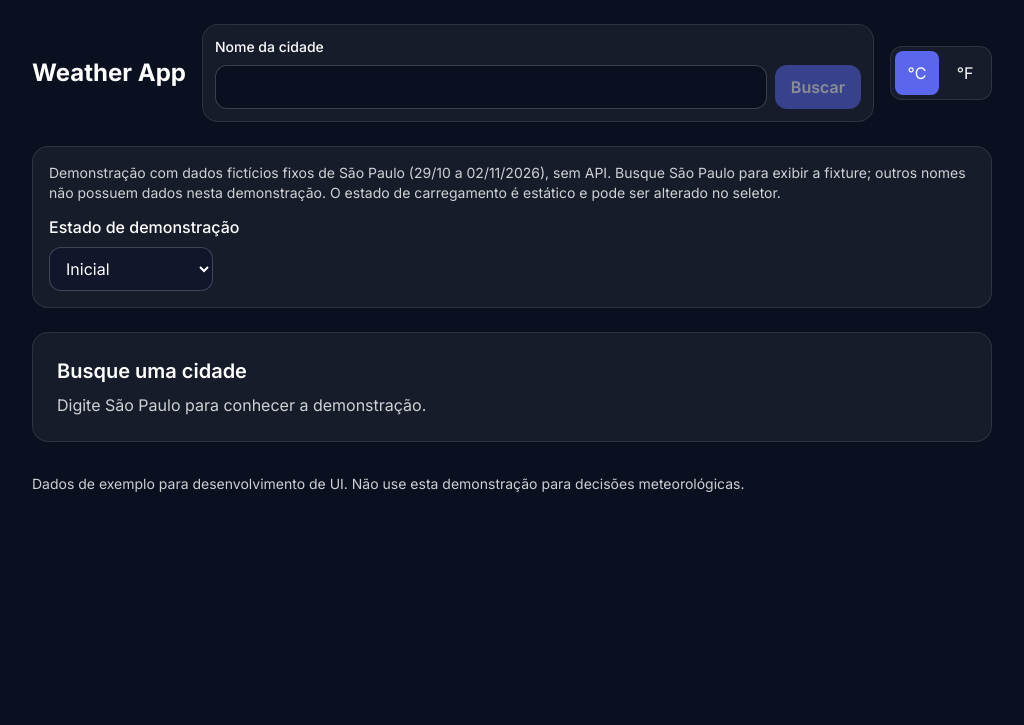
it: integra fixture, unidade derivada, vazio e nova busca sem rede
Expected: the heading "Busque uma cidade" is shown, [57,359,247,383]
Type "  sao paulo  " into the search field at (491, 87), box [215,65,767,109]
Then press Enter
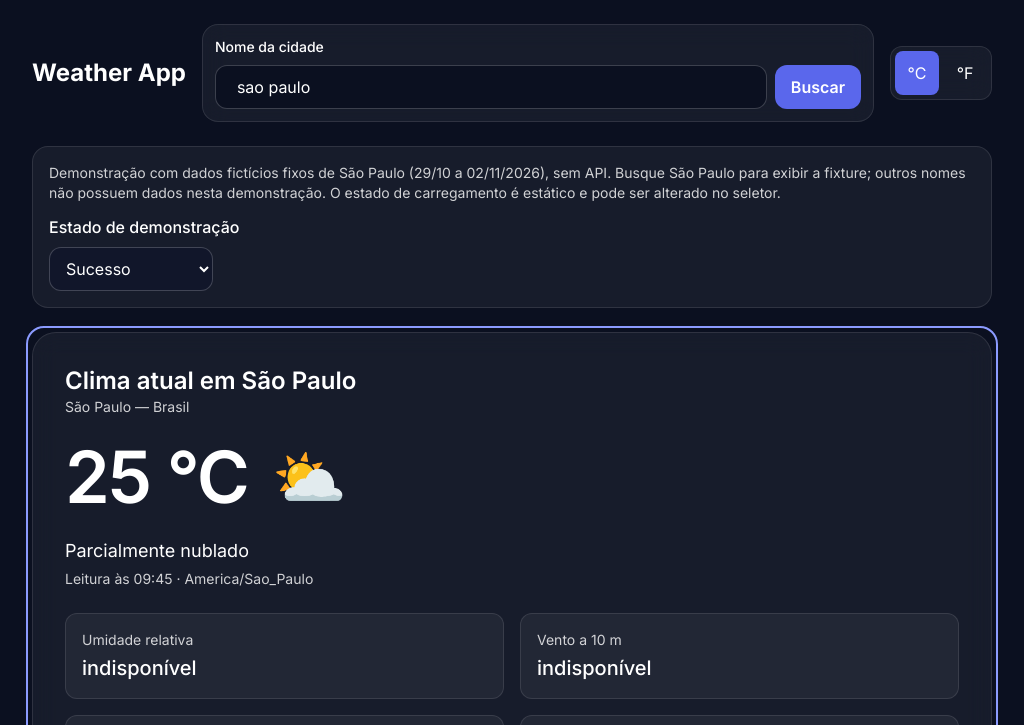
Expected: the text "25 °C" is shown, [65,441,248,513]
Click the button named "Fahrenheit" at (965, 73), box [943,51,987,95]
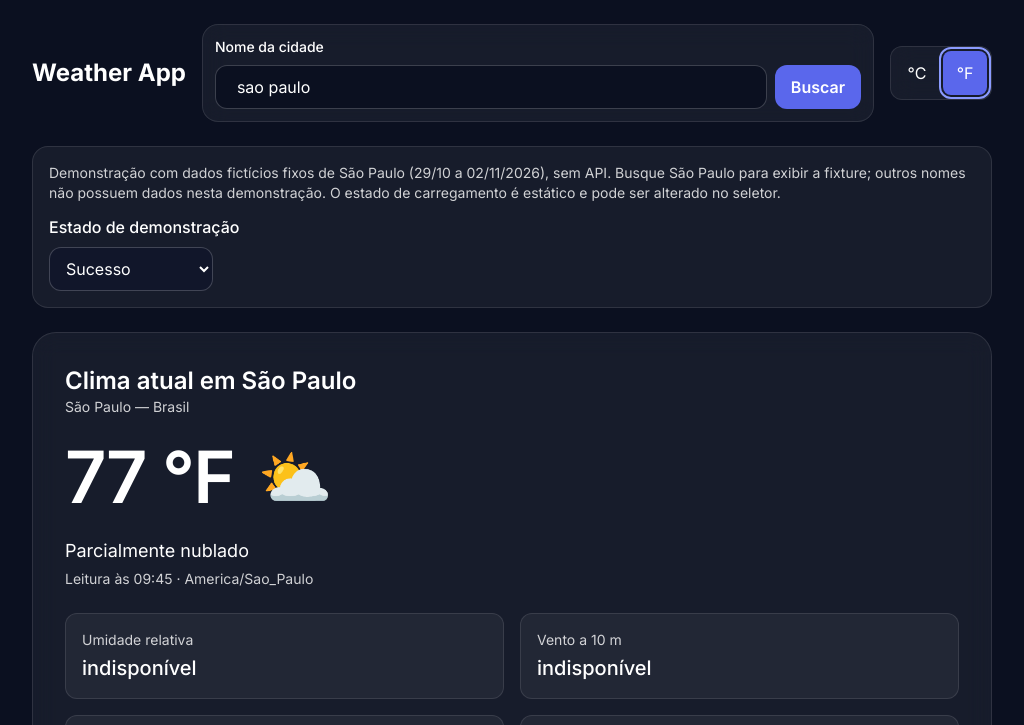
Expected: the text "77 °F" is shown, [65,441,234,513]
Replace the text in the search field with "Recife" at (491, 87), box [215,65,767,109]
Then press Enter
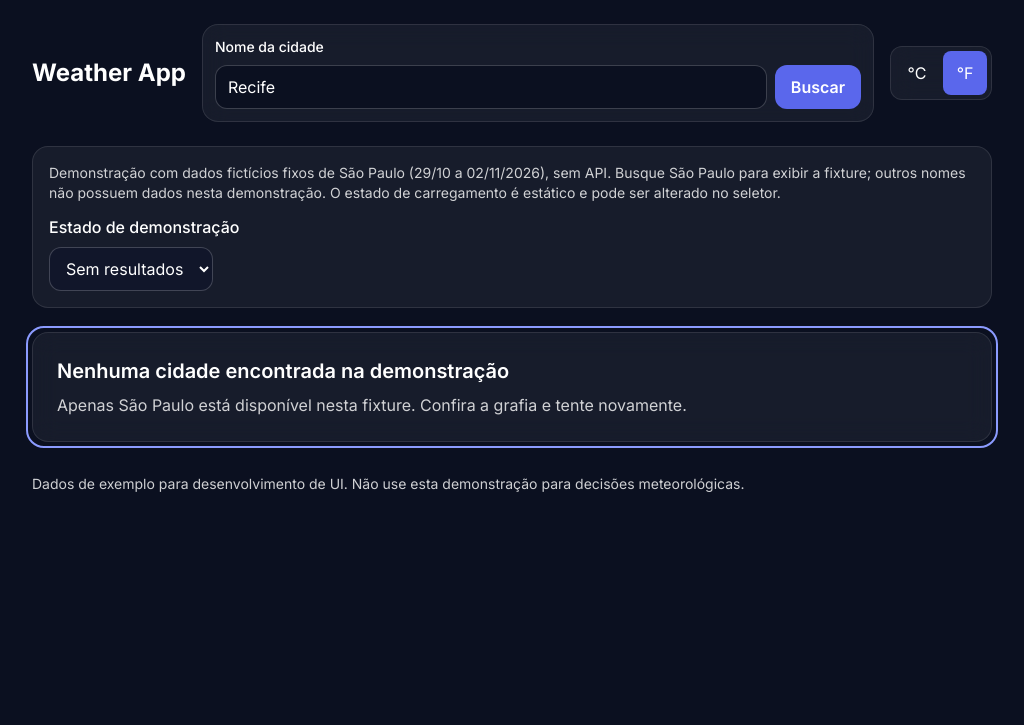
Expected: the heading "Nenhuma cidade encontrada na demonstração" is shown, [57,359,509,383]
Replace the text in the search field with "São Paulo" at (491, 87), box [215,65,767,109]
Then press Enter
(page scrolled)
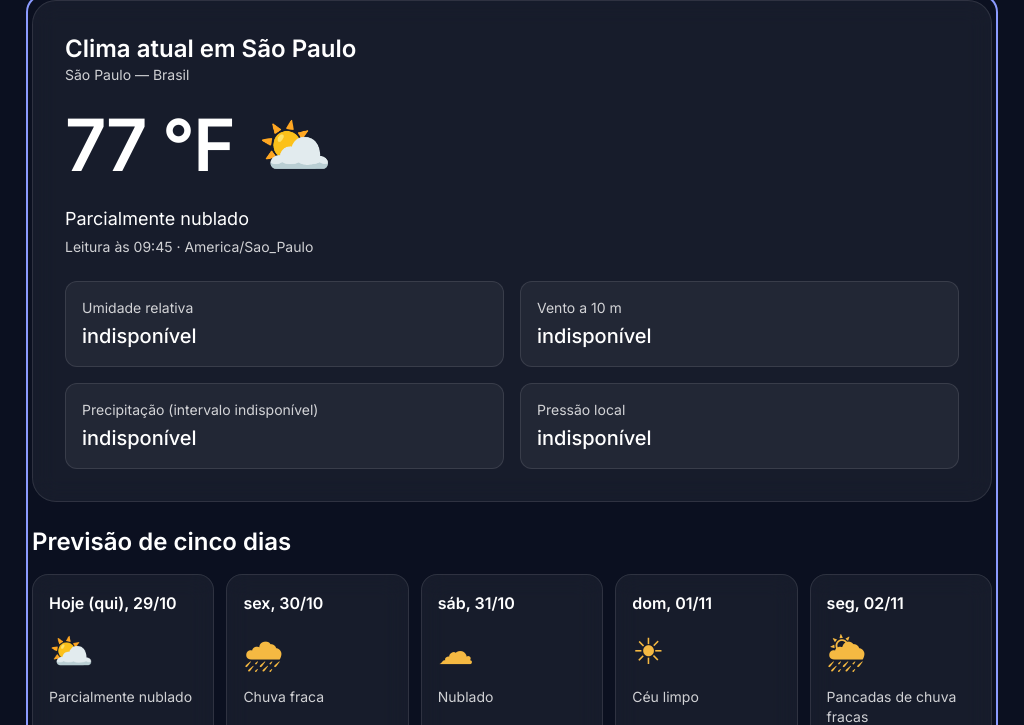
Expected: the text "77 °F" below "São Paulo — Brasil" is shown, [65,101,234,188]
